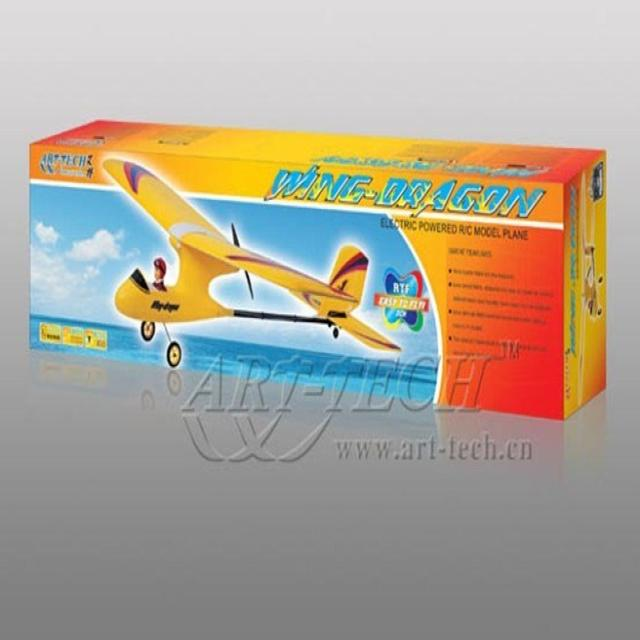iha: (98, 148, 402, 371)
